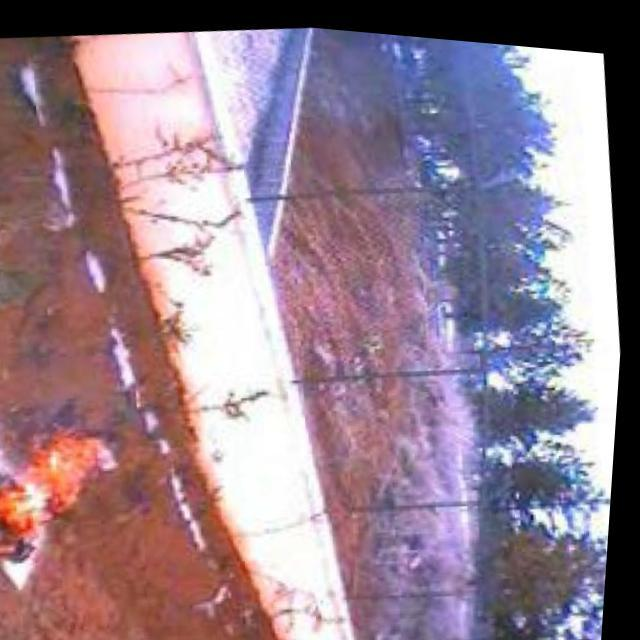fire: (0, 415, 140, 575)
